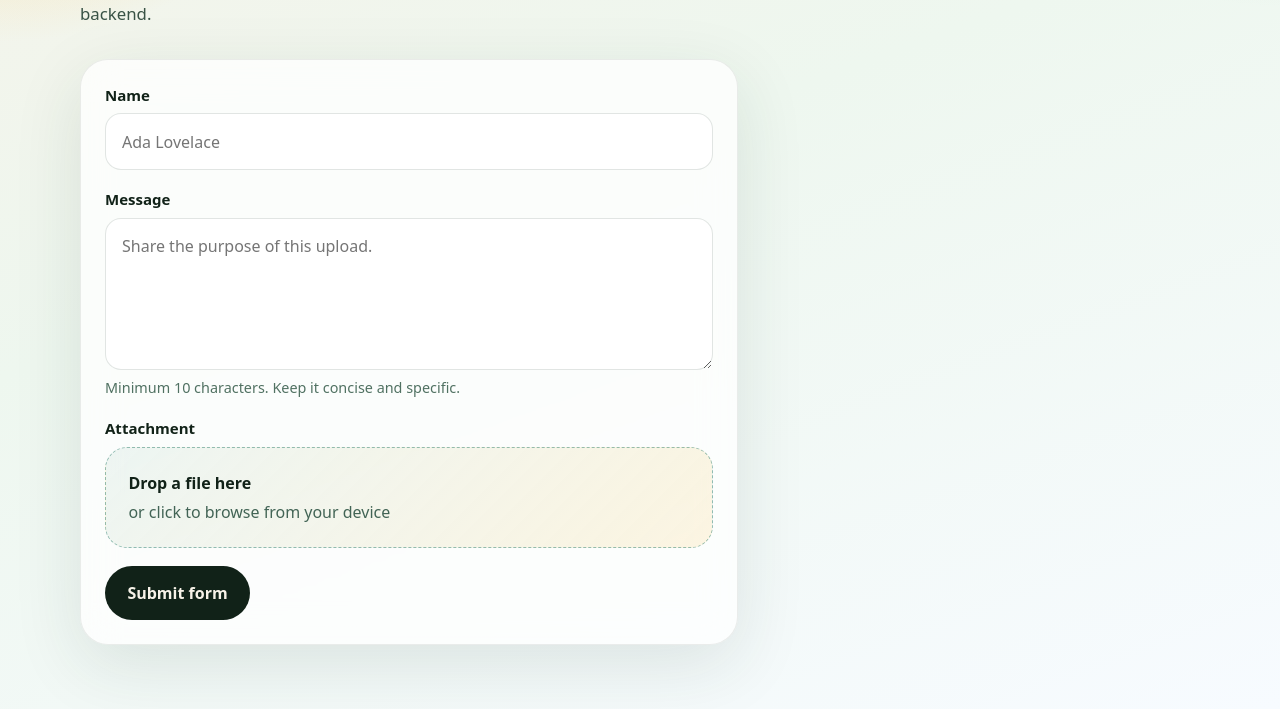
App › shows required field errors on empty submit
The image size is (1280, 709).
(page scrolled)
Click the button "Submit form": (178, 593) [105,566,250,620]
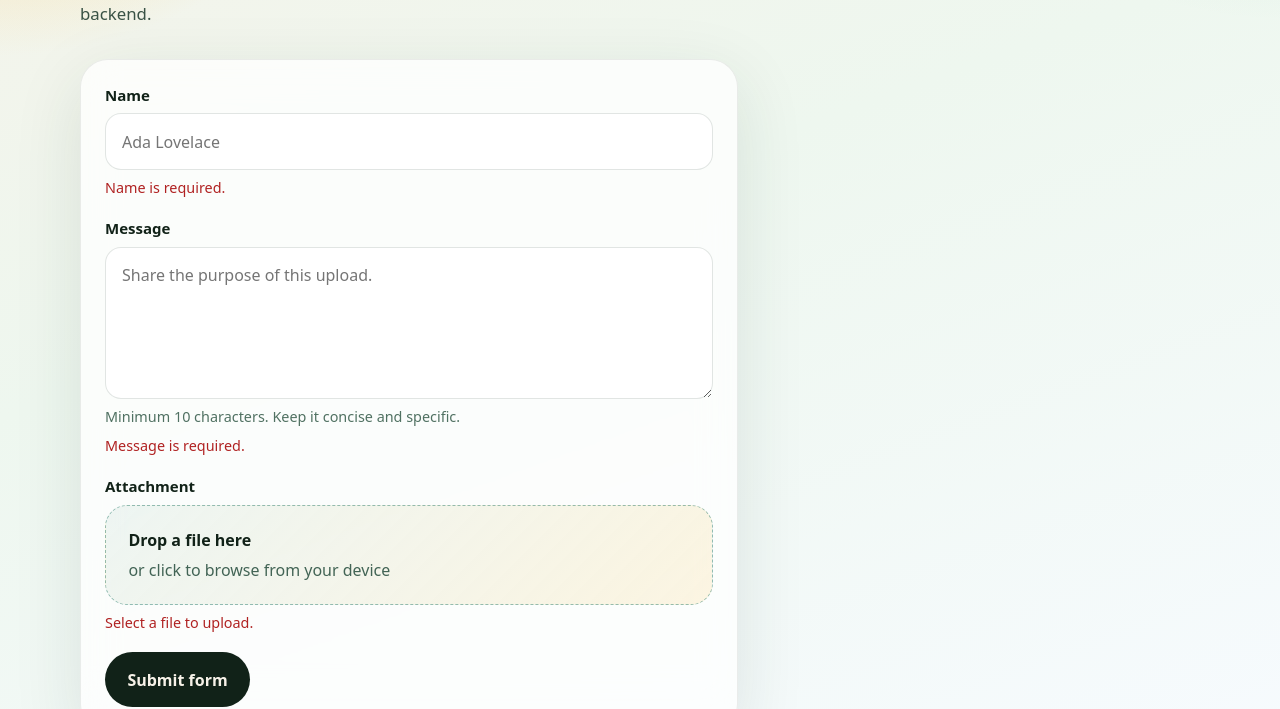
Now the text "Name is required." is shown, box [105,178,225,197]
Now the text "Message is required." is shown, box [105,436,245,455]
Now the text "Select a file to upload." is shown, box [105,613,253,632]
